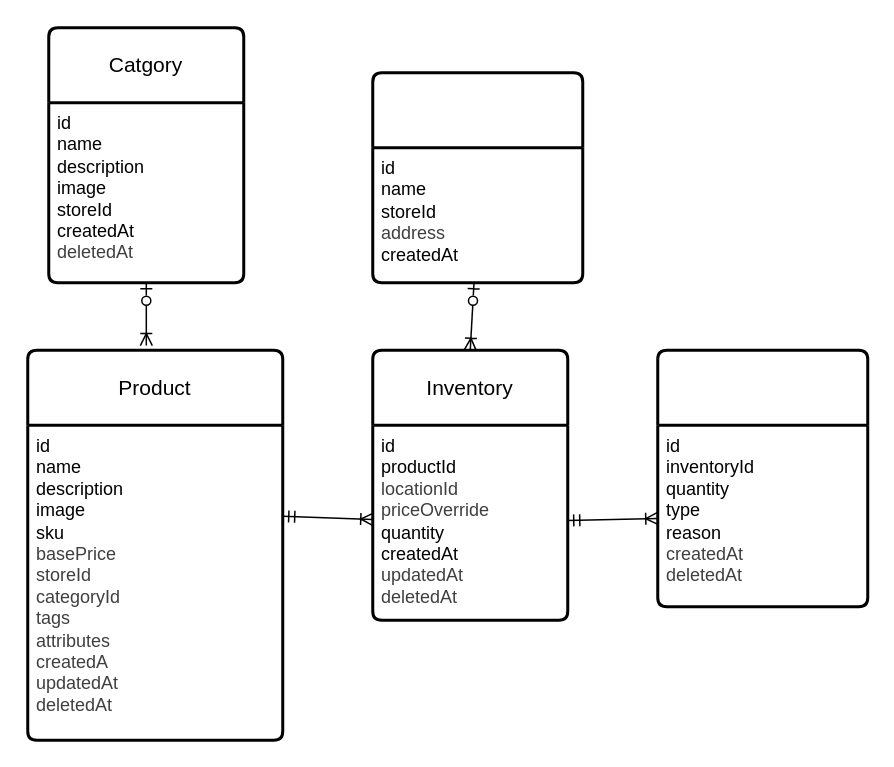
Image size: 894x767. Some labels were removed from this diagram. Each missing label, with the box of its shape:
InventoryMovement: (656, 348, 868, 608)
Location: (370, 70, 584, 284)
